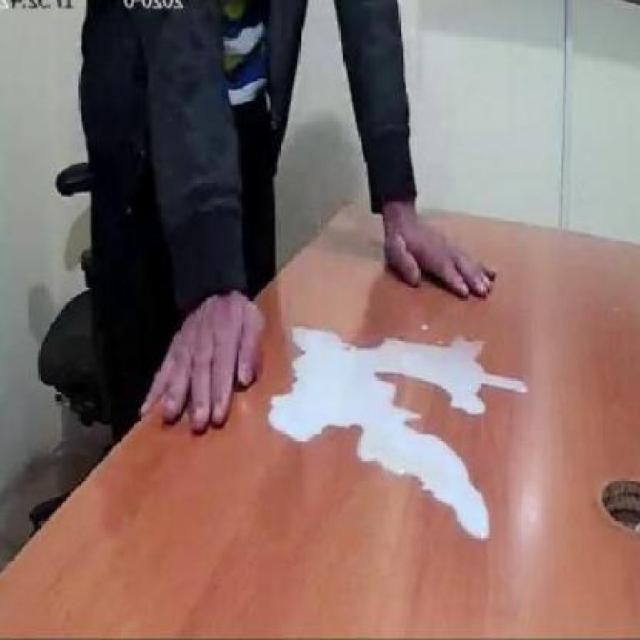spillage: (268, 326, 526, 540)
